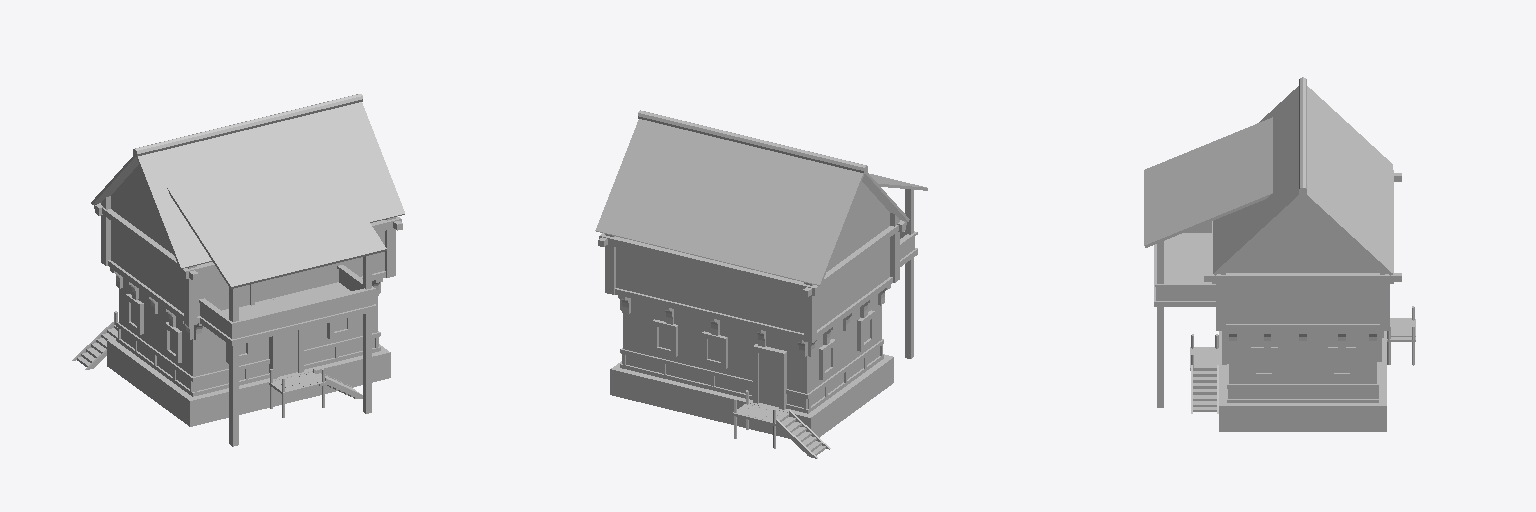
Rendered from House3.obj.
3 views of the same model, side by side, from view 1: azimuth 30°, elevation 25°; view 2: azimuth 150°, elevation 25°; view 3: azimuth 270°, elevation 25° (orthographic).
Bounding box in the file's own units: 5.62 × 5.77 × 5.65.